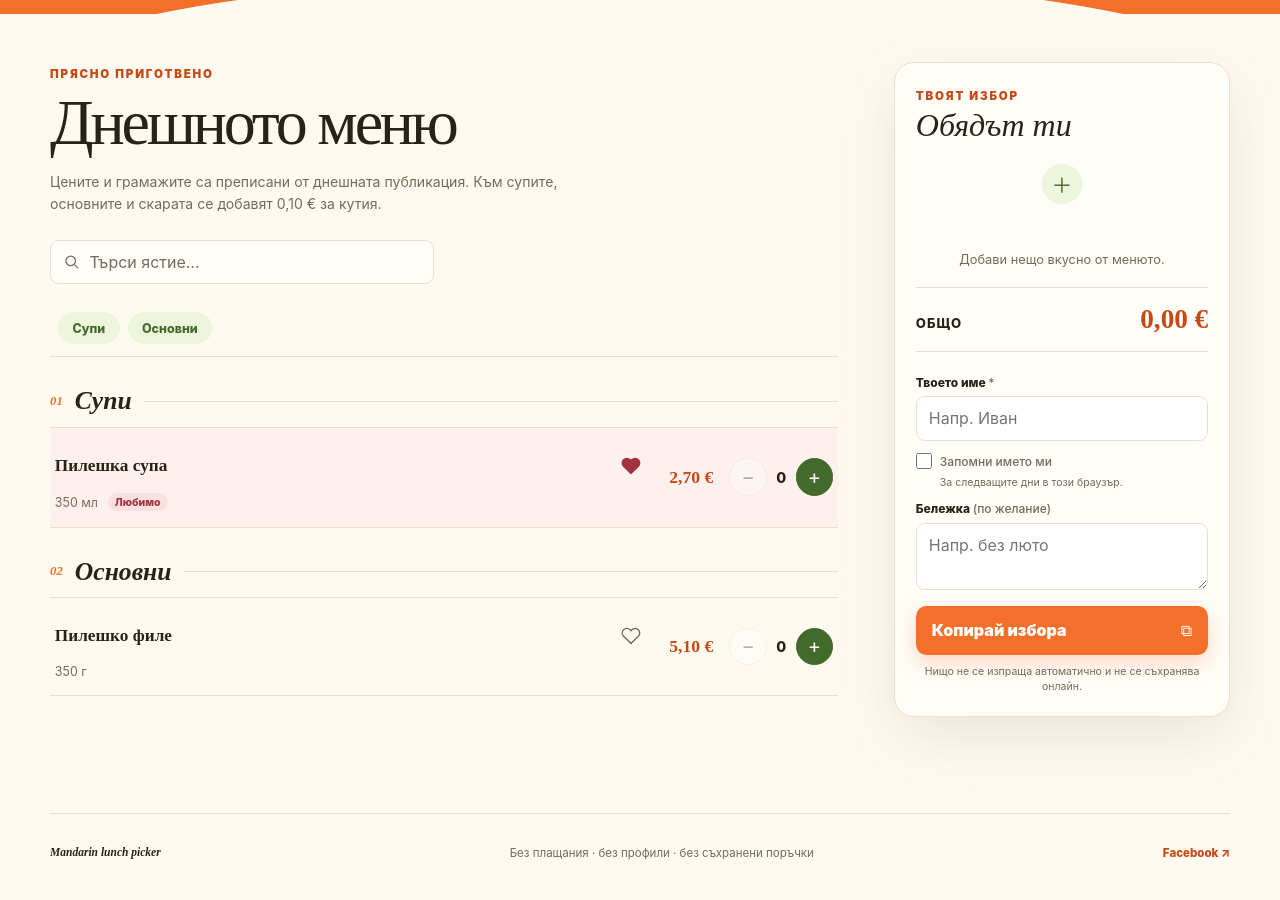
Test case: dish favorites › reports failed favorite removal and persists the in-memory choices when saving recovers
(page scrolled)
Click the button named "Любимо ястие: Пилешка супа".
click(631, 466)  # box [609,444,653,488]
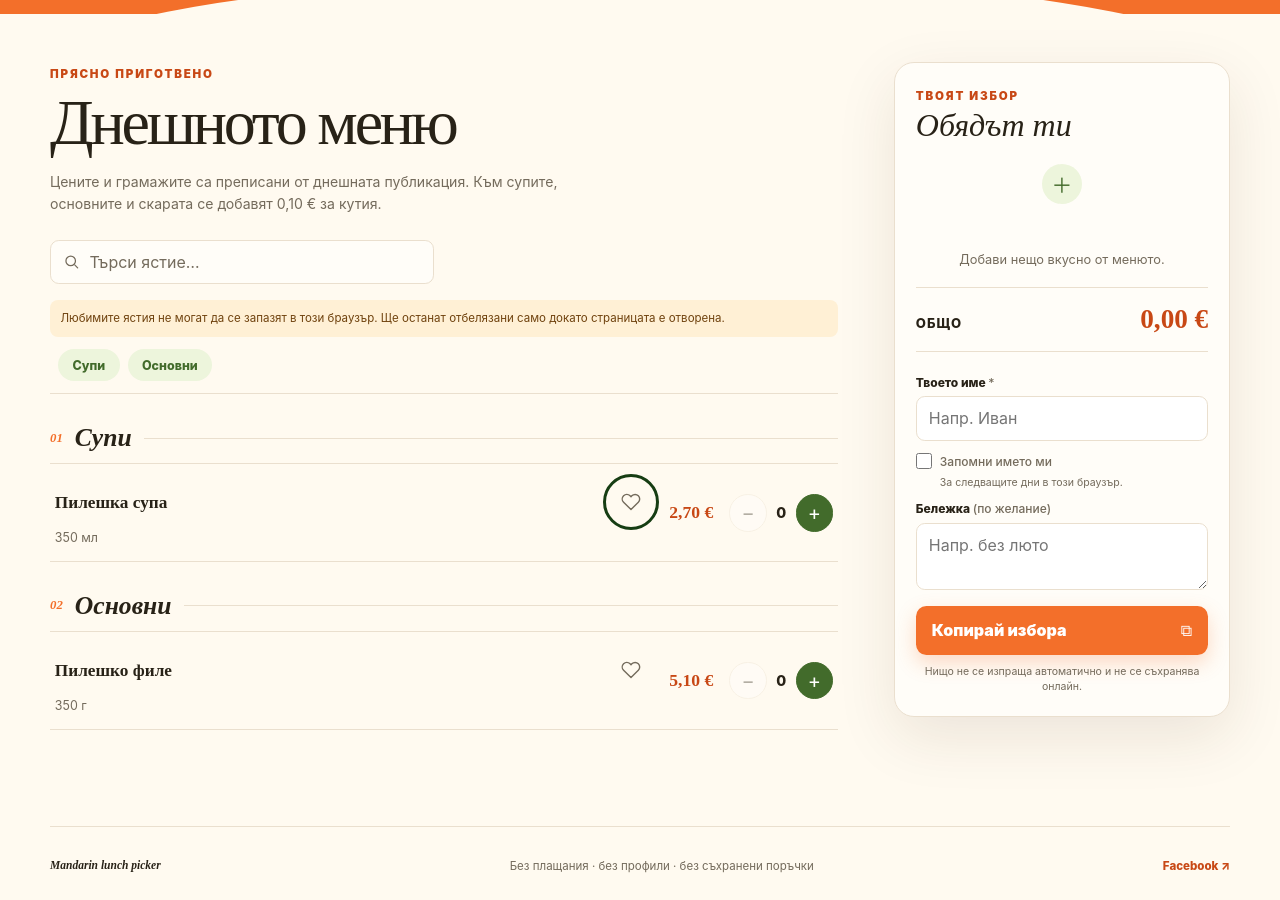
Result: the text "Любимите ястия не могат да се запазят" is shown at [60,311,725,325]
Click the button named "Любимо ястие: Пилешко филе".
click(631, 670)  # box [609,648,653,692]
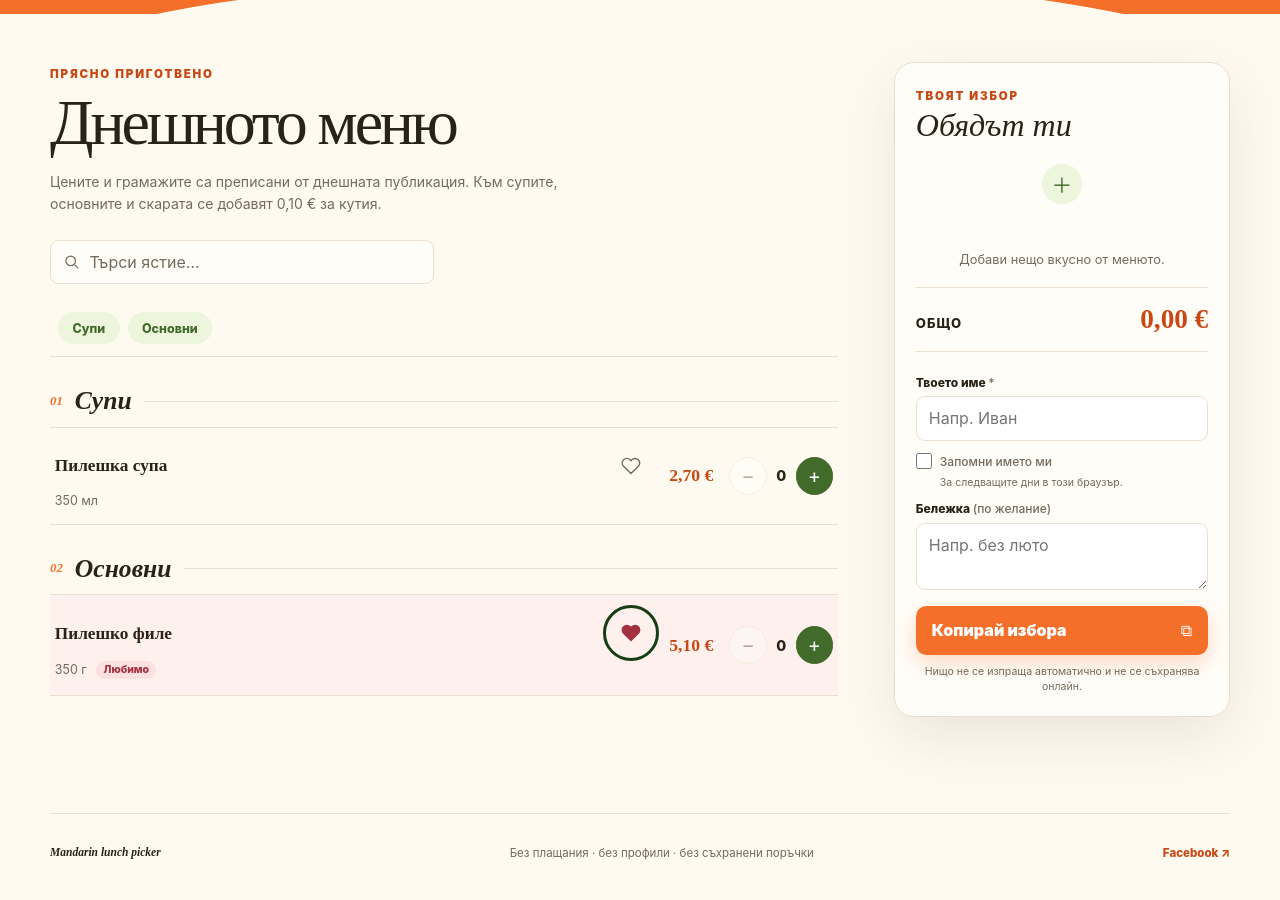
Result: the text "Любимите ястия не могат да се запазят" is gone
